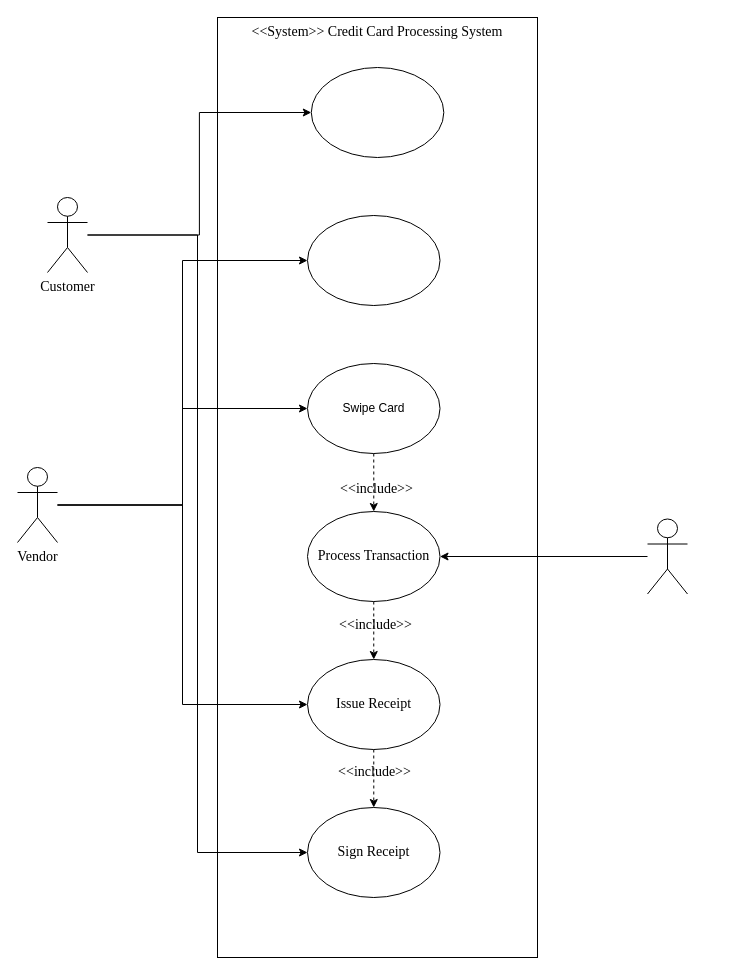
The diagram is 744 pixels wide and 975 high, and some of its shapes have lost their labels. The box of each missing label's shape, as (x1, y1, x2, y2) in pixels:
Credit Card Machine: (646, 518, 688, 594)
Generate Bill: (306, 214, 440, 306)
Select Item: (310, 66, 444, 158)
